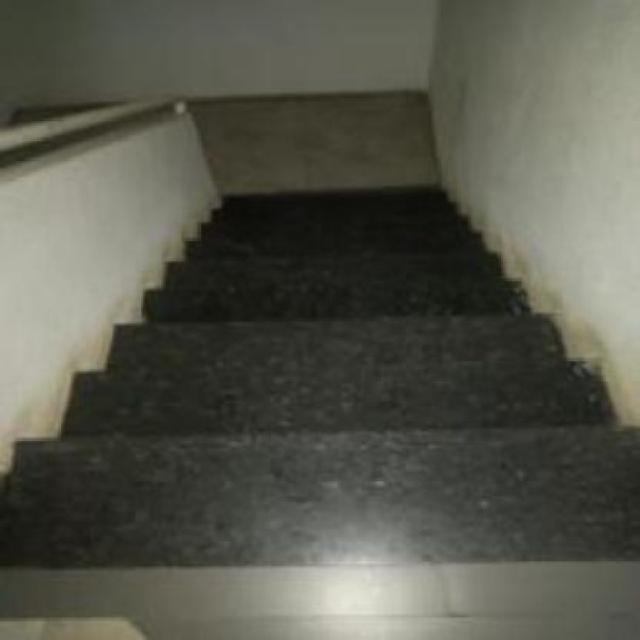stair: (4, 184, 640, 550)
